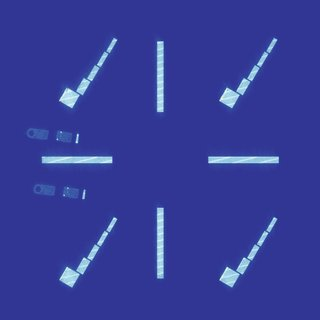overheated: (59, 96, 63, 102), (220, 95, 223, 101), (221, 277, 223, 278)
